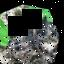Morning glory: (0, 0, 62, 63)
